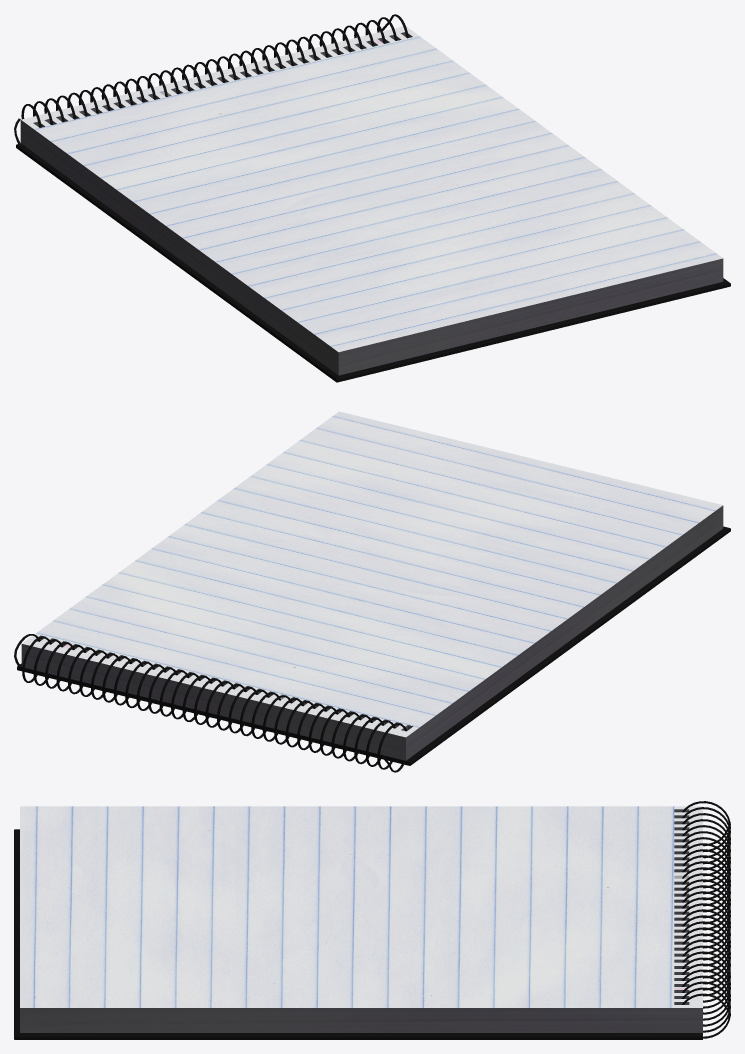
The model's file is Notpad.glb.
3 views of the same model, one above another, from view 1: azimuth 30°, elevation 25°; view 2: azimuth 150°, elevation 25°; view 3: azimuth 270°, elevation 25° (orthographic). The views are drawn at different scales.
Parts seen in each view (by area): view 1: Paper, Cartonage, Binding; view 2: Paper, Binding, Cartonage; view 3: Paper, Binding, Cartonage.
Part boxes in pixels (x1,y1,x2,y2): Paper: (20,26,723,375); Cartonage: (16,143,730,382); Binding: (14,14,408,143); Paper: (21,411,723,760); Binding: (14,634,407,772); Cartonage: (17,526,730,765); Paper: (20,806,702,1032); Binding: (682,801,730,1038); Cartonage: (14,829,702,1039).
Size of the model in its own units: 0.1061 by 0.0114 by 0.1554.
4 materials, 3 textured.
